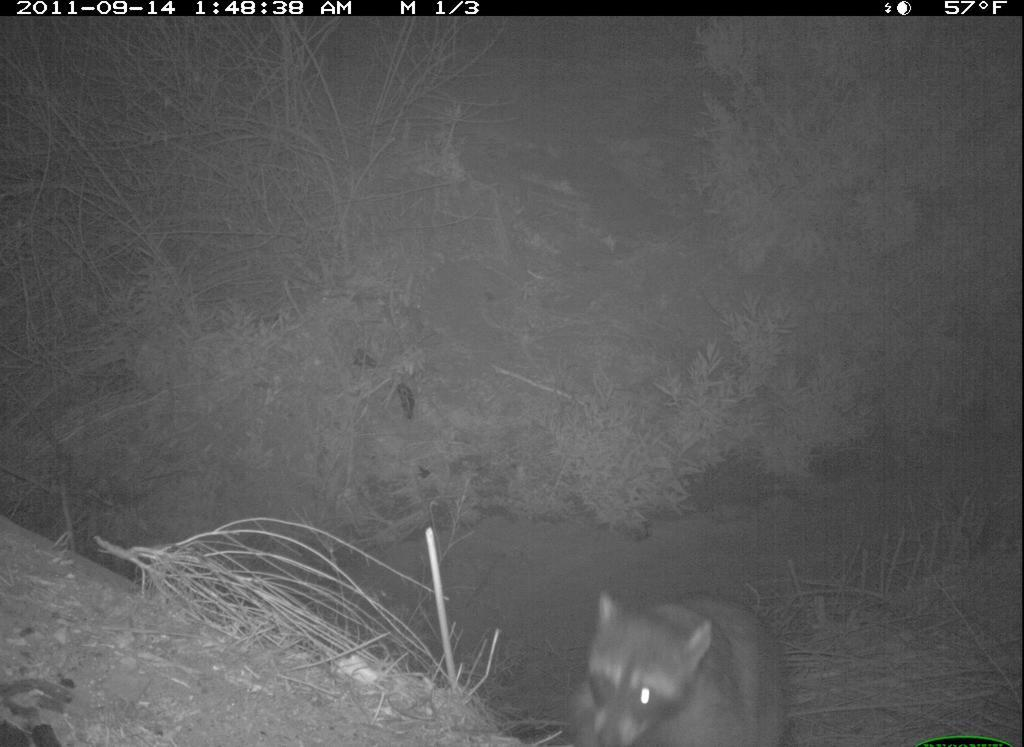raccoon: (574, 574, 799, 743)
